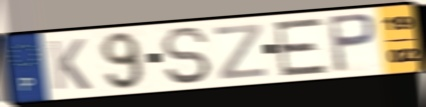9: (97, 30, 145, 92)
E: (272, 15, 330, 78)
K: (46, 37, 93, 92)
P: (325, 11, 379, 74)
S: (158, 25, 214, 86)
Z: (212, 21, 268, 81)
